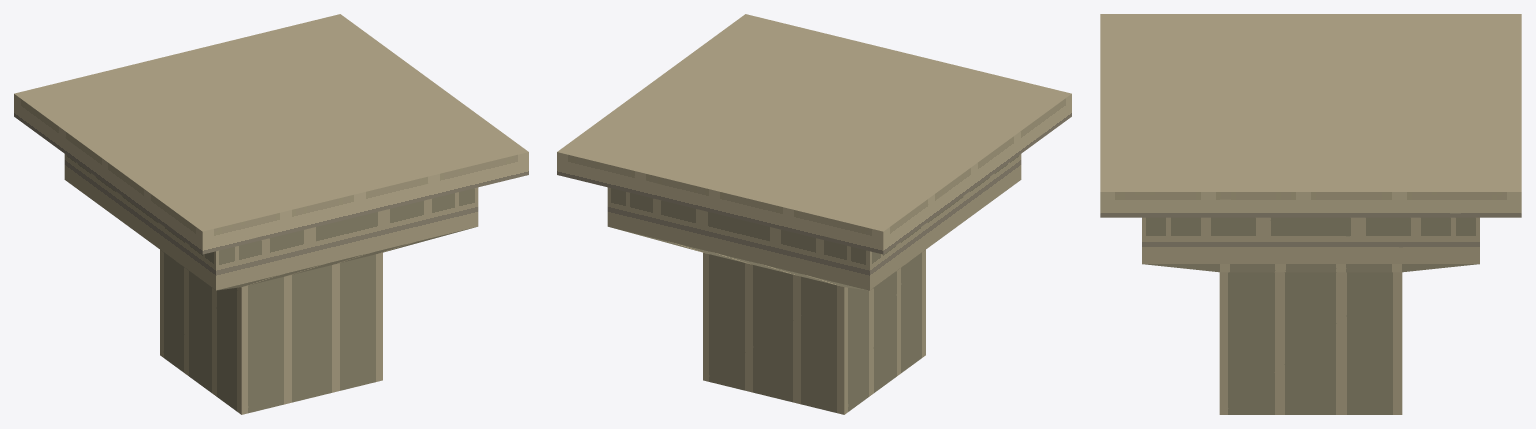
The model's file is 0576_Crane_Scaffold.glb.
The picture shows the model from 3 angles, left to right: view 1: azimuth 30°, elevation 25°; view 2: azimuth 150°, elevation 25°; view 3: azimuth 270°, elevation 25°; orthographic projection. The views are drawn at different scales.
Visible parts, largest first — view 1: part_0; view 2: part_0; view 3: part_0.
Part boxes in pixels (x1,y1,x2,y2): part_0: [14, 14, 528, 414]; part_0: [557, 14, 1071, 414]; part_0: [1100, 14, 1521, 414].
Bounding box in the file's own units: 16.38 × 11.75 × 16.39.
1 material, 1 textured.
